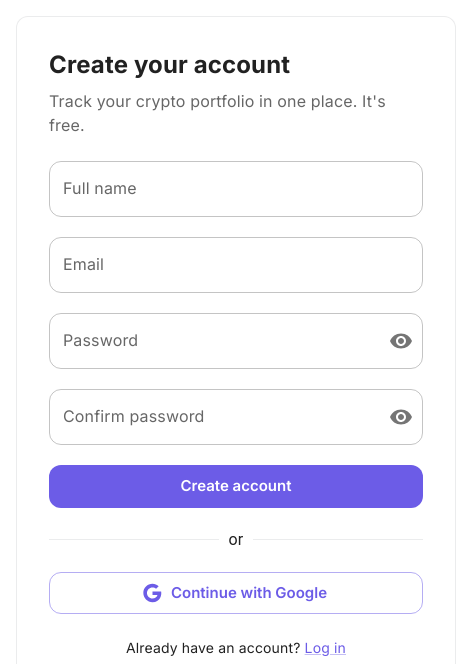
Test: SignupPage › requires a password with a number
Step 1. Type "onlyletters" into the password field labelled "Password" → coordinates (211, 341), box x1=49 y1=313 x2=373 y2=369
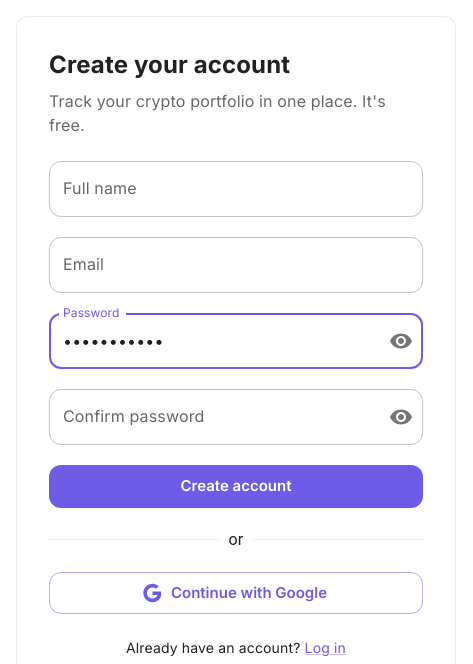
Step 2. Click the button "Create account" → coordinates (236, 487), box x1=49 y1=465 x2=423 y2=508
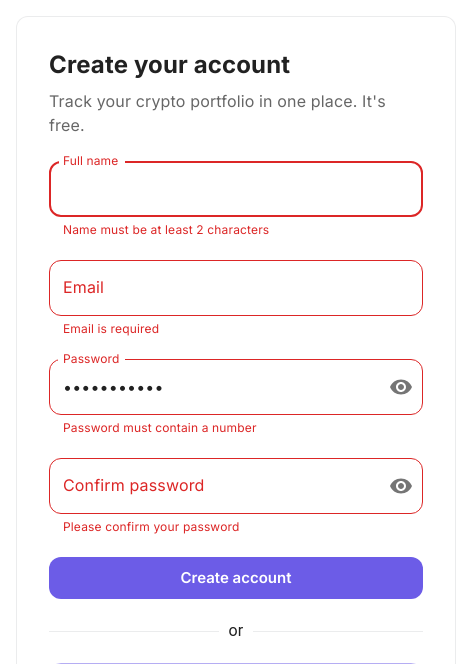
Expected: the text "Password must contain a number" is shown, x1=63 y1=420 x2=257 y2=435
